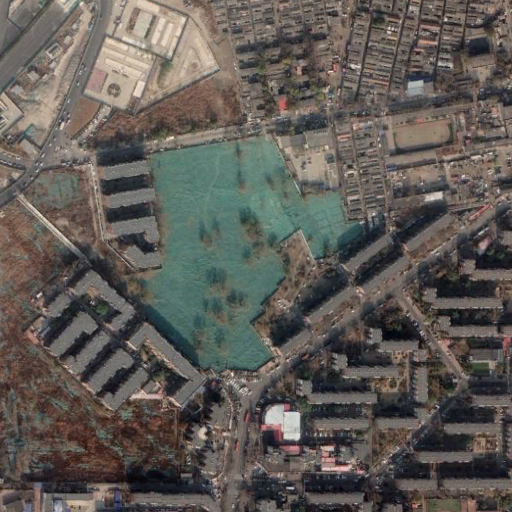cw: (137, 136, 363, 375)
